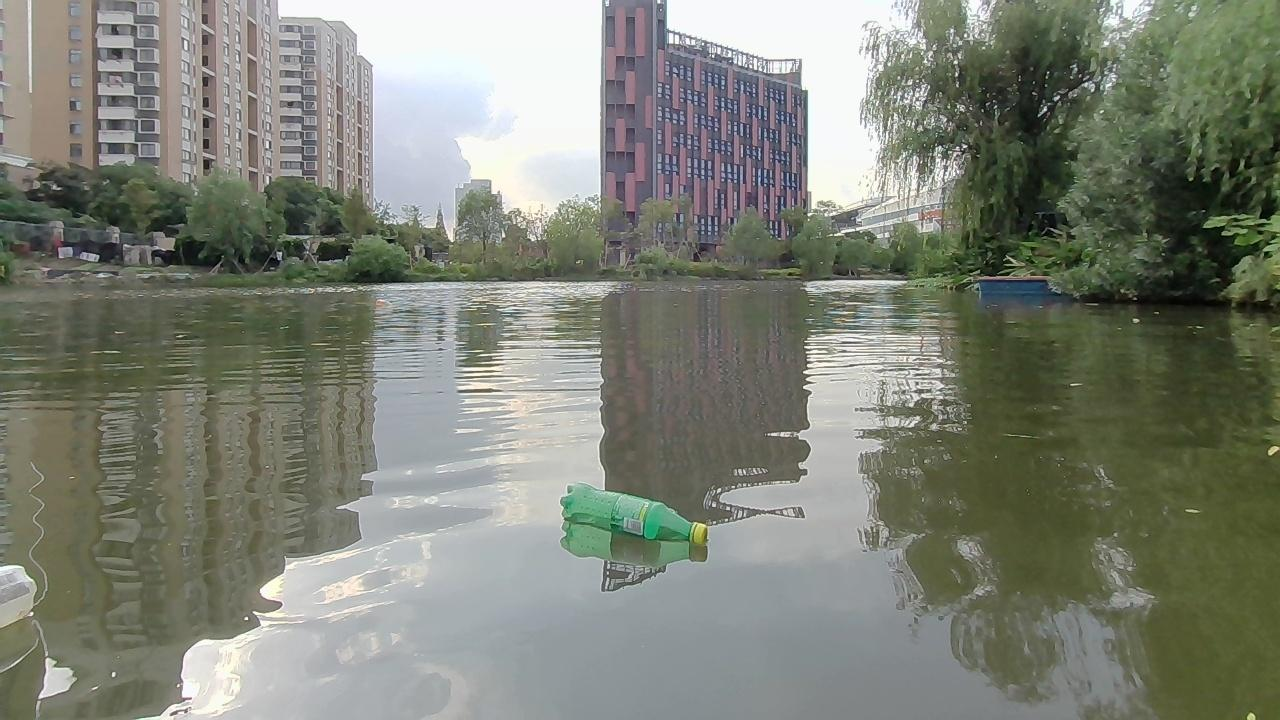bottle: (561, 478, 709, 560), (373, 297, 390, 312)
